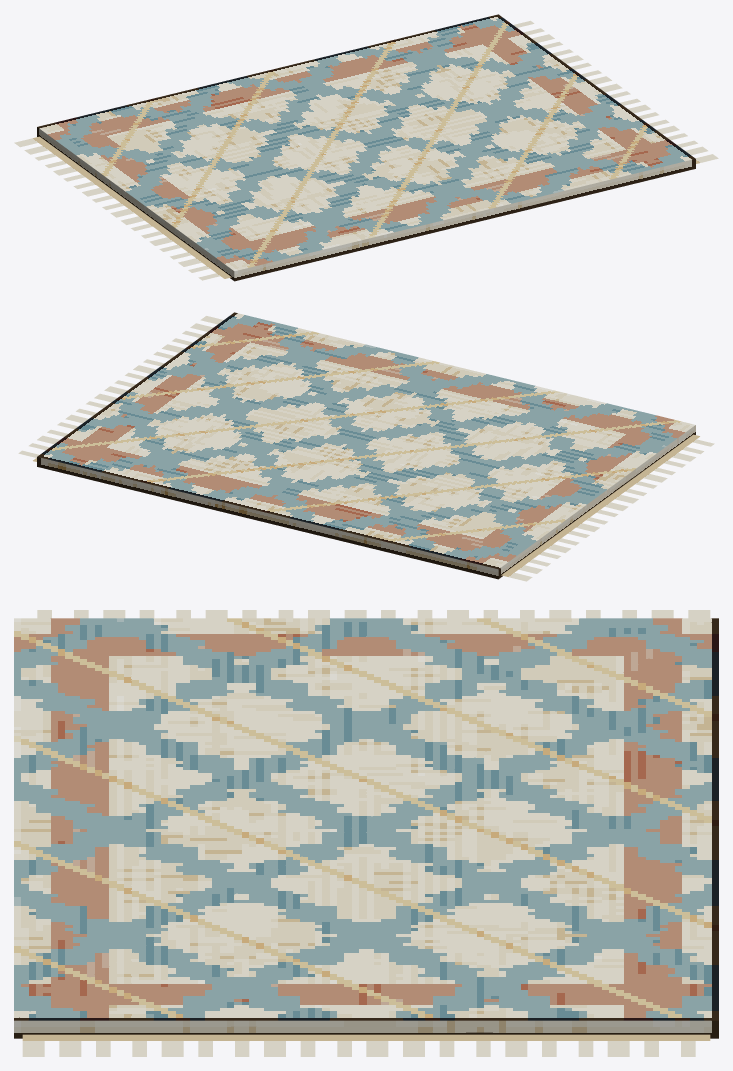
The model's file is rug.glb.
The picture shows the model from 3 angles, top to bottom: view 1: azimuth 30°, elevation 25°; view 2: azimuth 150°, elevation 25°; view 3: azimuth 270°, elevation 25°; orthographic projection. The views are drawn at different scales.
Parts seen in each view (by area): view 1: rug, fringe-1, fringe1; view 2: rug, fringe-1, fringe1; view 3: rug, fringe1, fringe-1.
Part boxes in pixels (x1,y1,x2,y2): rug: (37, 14, 695, 281); fringe-1: (14, 136, 231, 280); fringe1: (513, 20, 718, 163); rug: (37, 312, 695, 579); fringe-1: (501, 434, 714, 581); fringe1: (18, 316, 223, 461); rug: (14, 618, 718, 1038); fringe1: (22, 1034, 710, 1056); fringe-1: (37, 610, 710, 618).
Size of the model in its own units: 1.5 by 0.0281 by 1.
2 materials, 2 textured.
